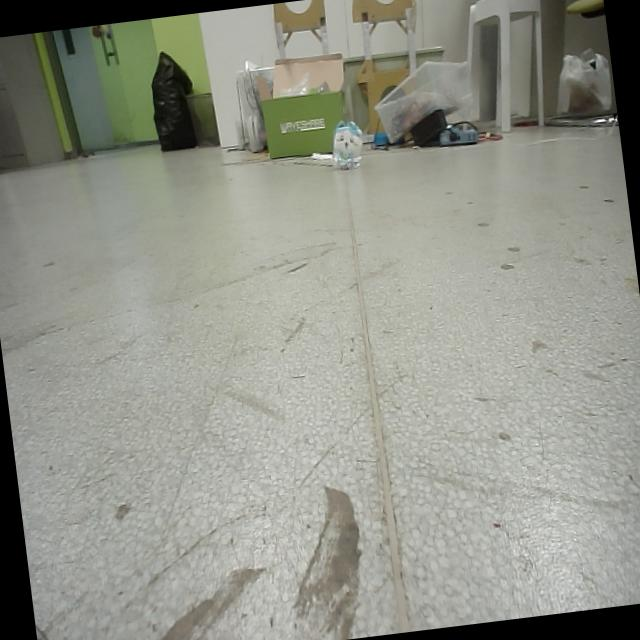xiaoba: (328, 114, 370, 172)
